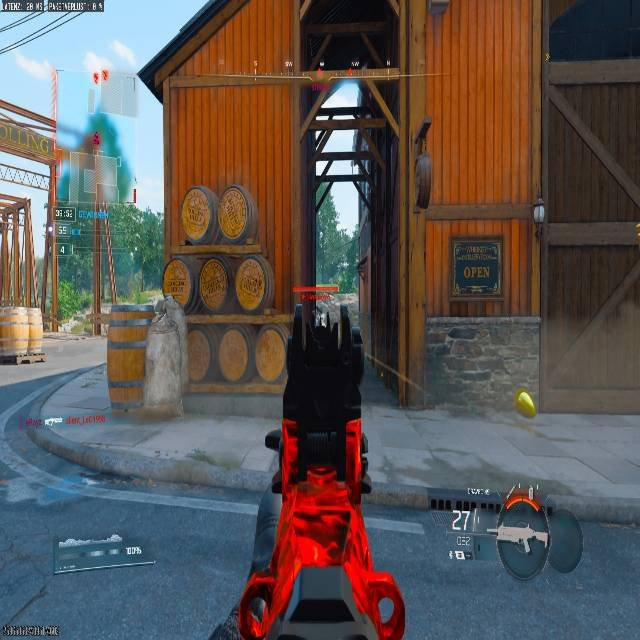player: (316, 300, 329, 326)
